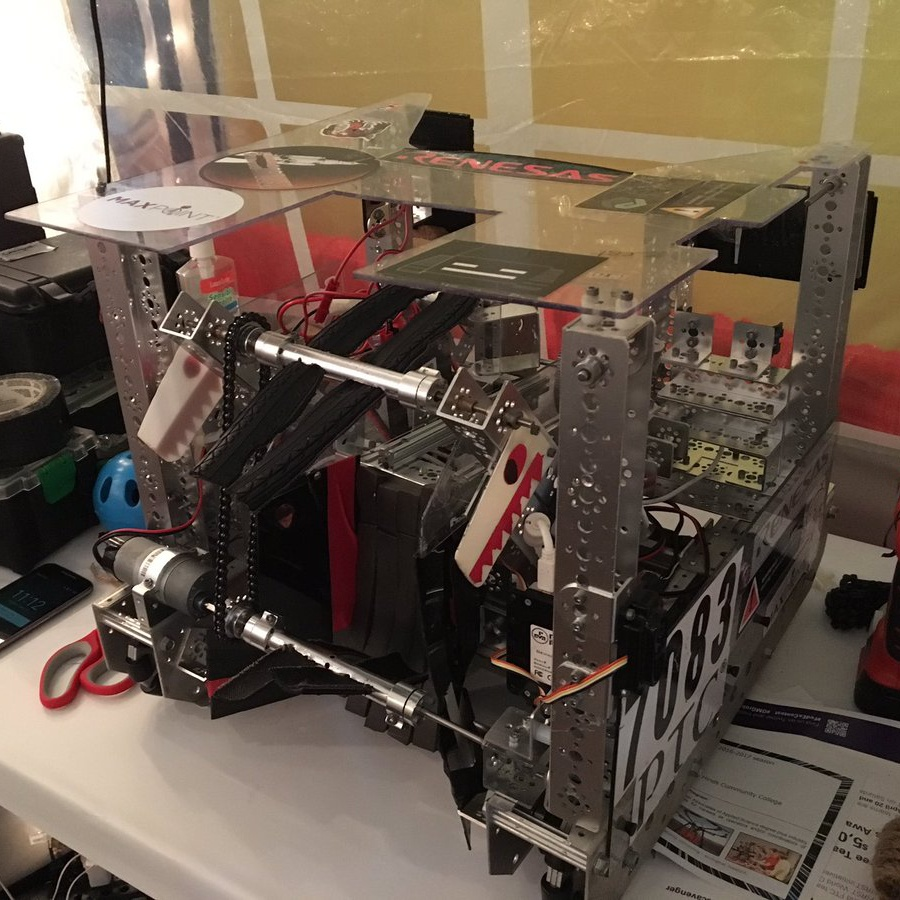blueball: (92, 448, 150, 535)
robot: (73, 85, 885, 900)
